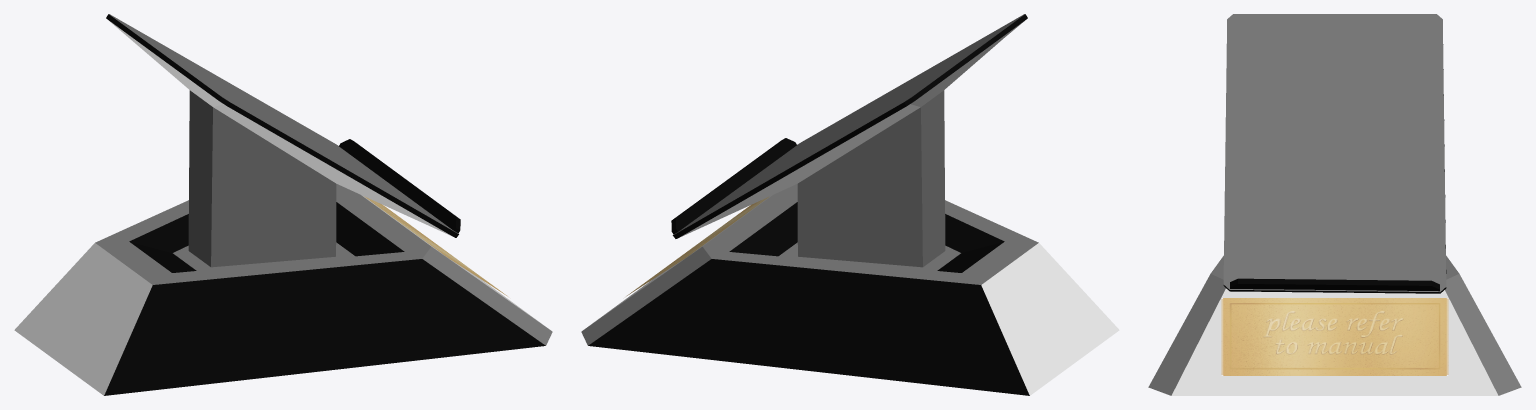
File: Book Pedestal.fbx
3 renders of one model, left to right at view 1: azimuth 30°, elevation 25°; view 2: azimuth 150°, elevation 25°; view 3: azimuth 270°, elevation 25°, orthographic. The views are drawn at different scales.
Parts seen in each view (by area): view 1: Plark Holder; view 2: Plark Holder; view 3: Plark Holder.
Part boxes in pixels (x1=…): Plark Holder: x1=14, y1=14, x2=552, y2=395; Plark Holder: x1=581, y1=14, x2=1119, y2=395; Plark Holder: x1=1148, y1=14, x2=1521, y2=395.
Bounding box in the file's own units: 72.99 × 48.81 × 65.44.
